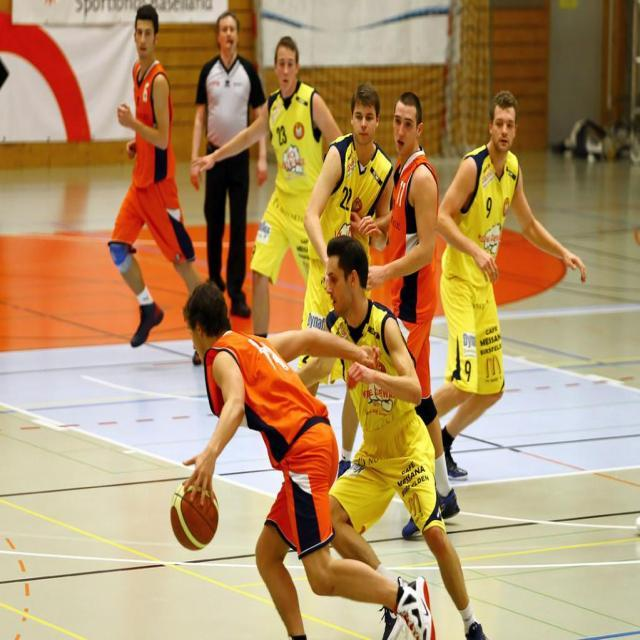rim: (165, 485, 218, 550)
